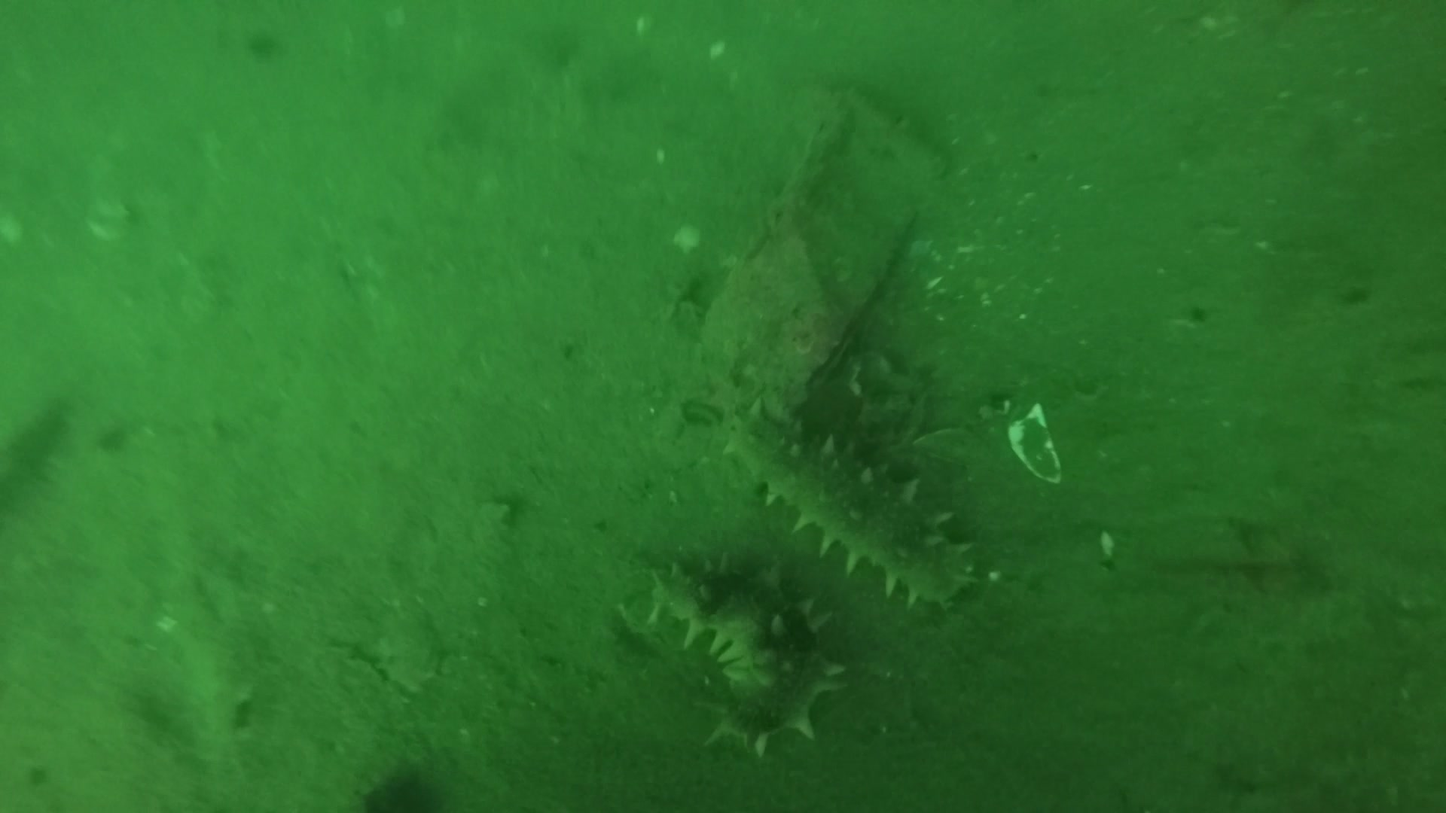echinus: (720, 405, 975, 610), (646, 565, 851, 752)
